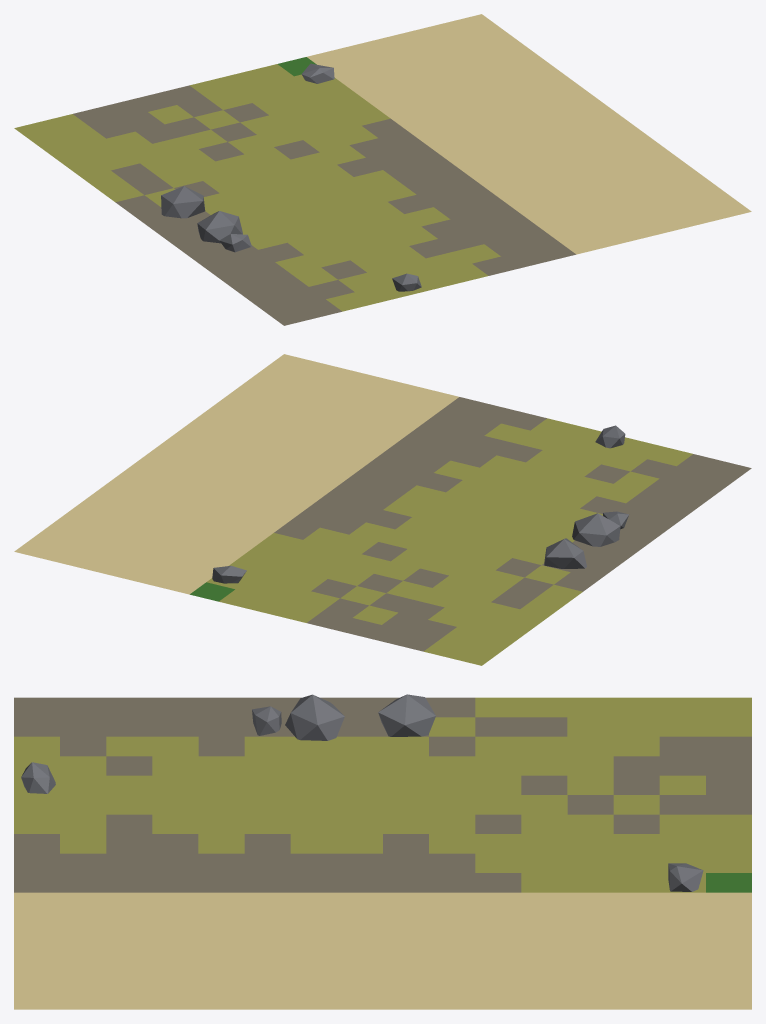
The model's file is chunk_11_17.glb.
3 renders of one model, top to bottom at view 1: azimuth 30°, elevation 25°; view 2: azimuth 150°, elevation 25°; view 3: azimuth 270°, elevation 25°, orthographic. The views are drawn at different scales.
Parts seen in each view (by area): view 1: chunk_11_17; view 2: chunk_11_17; view 3: chunk_11_17.
Boxes of the visible parts, bbox=[...] form: chunk_11_17: bbox=[14, 14, 751, 325]; chunk_11_17: bbox=[14, 354, 751, 665]; chunk_11_17: bbox=[14, 694, 751, 1009].
Bounding box in the file's own units: 16 × 1.27 × 16.
